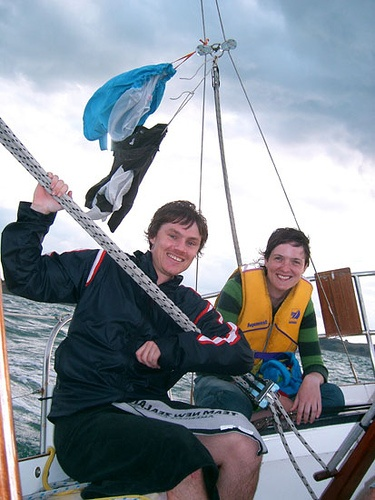head: (146, 200, 208, 276), (264, 224, 312, 292)
person: (1, 169, 265, 500), (214, 220, 346, 430)
